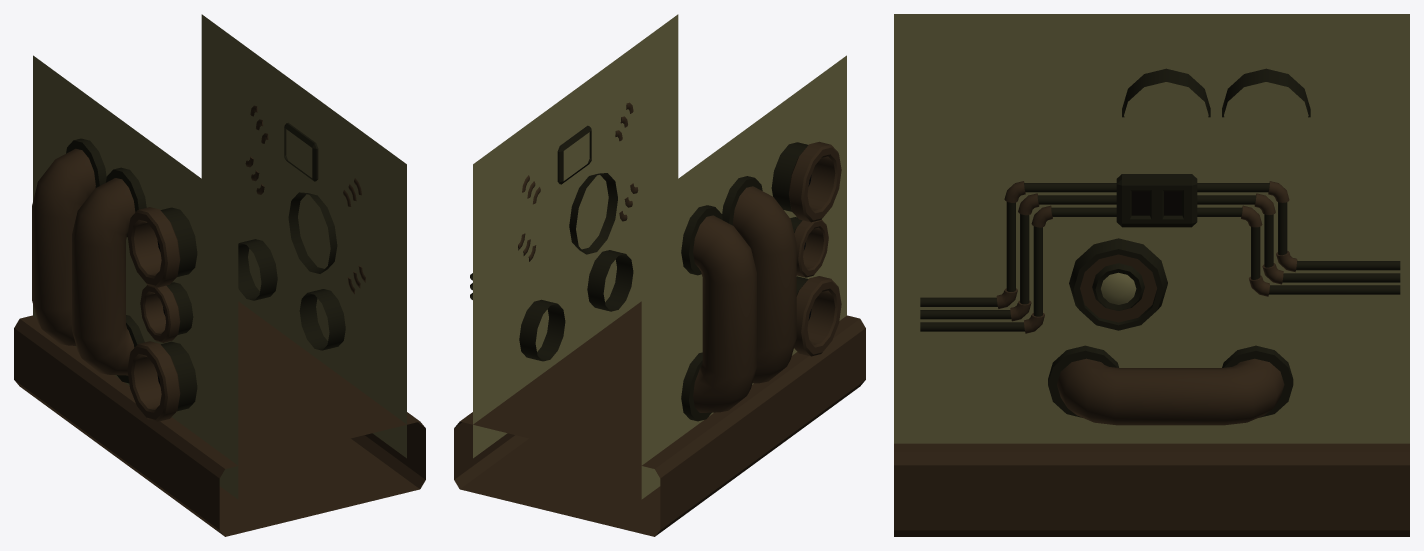
The model's file is OBJ_Mur_Cube_1_VAR1.fbx.
3 views of the same model, side by side, from view 1: azimuth 30°, elevation 25°; view 2: azimuth 150°, elevation 25°; view 3: azimuth 270°, elevation 25° (orthographic). The views are drawn at different scales.
Visible parts, largest first — view 1: Mur_cube_1_VAR001, Toyo001, Toyo002, Toyo_Fin002, Toyo_Fin, Toyo, Toyo_Fin001, Ventile, Cable003; view 2: Mur_cube_1_VAR001, Toyo002, Toyo001, Toyo_Fin, Toyo, Toyo_Fin002, Toyo_Fin001, Cable003, Ventile; view 3: Mur_cube_1_VAR001, Cable003, Toyo, Ventile, Toyo001, Toyo002.
Part boxes in pixels (left/top/right/bottom): Mur_cube_1_VAR001: left=14, top=14, right=425, bottom=536; Toyo001: left=72, top=167, right=146, bottom=383; Toyo002: left=32, top=138, right=106, bottom=345; Toyo_Fin002: left=127, top=341, right=197, bottom=421; Toyo_Fin: left=127, top=207, right=197, bottom=287; Toyo: left=238, top=239, right=345, bottom=350; Toyo_Fin001: left=140, top=282, right=193, bottom=342; Ventile: left=288, top=192, right=337, bottom=273; Cable003: left=245, top=105, right=365, bottom=294; Mur_cube_1_VAR001: left=454, top=14, right=865, bottom=536; Toyo002: left=681, top=205, right=756, bottom=421; Toyo001: left=722, top=176, right=796, bottom=383; Toyo_Fin: left=771, top=141, right=841, bottom=222; Toyo: left=519, top=250, right=633, bottom=361; Toyo_Fin002: left=794, top=276, right=841, bottom=356; Toyo_Fin001: left=790, top=217, right=828, bottom=277; Cable003: left=470, top=102, right=638, bottom=299; Ventile: left=569, top=173, right=617, bottom=254; Mur_cube_1_VAR001: left=894, top=14, right=1409, bottom=536; Cable003: left=920, top=174, right=1400, bottom=333; Toyo: left=1048, top=345, right=1293, bottom=425; Ventile: left=1069, top=238, right=1167, bottom=330; Toyo001: left=1122, top=68, right=1210, bottom=117; Toyo002: left=1222, top=68, right=1310, bottom=117.
Bounding box in the file's own units: 1723 × 1995 × 2265.
